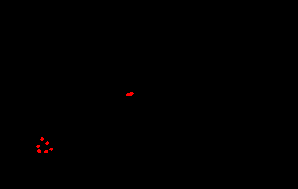Target: (126, 92, 134, 96), (40, 137, 44, 141), (45, 141, 49, 145), (37, 149, 41, 153), (36, 145, 40, 148), (49, 148, 53, 151), (44, 150, 48, 153)
